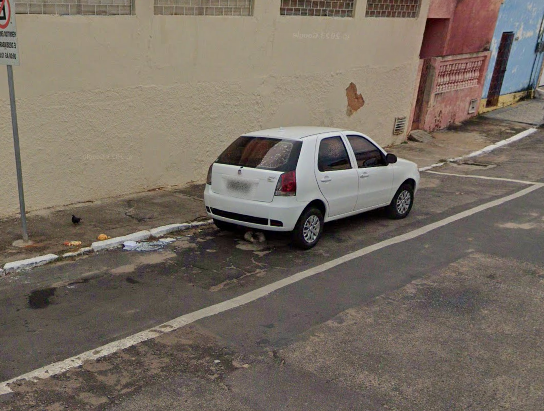car: (201, 116, 424, 253)
